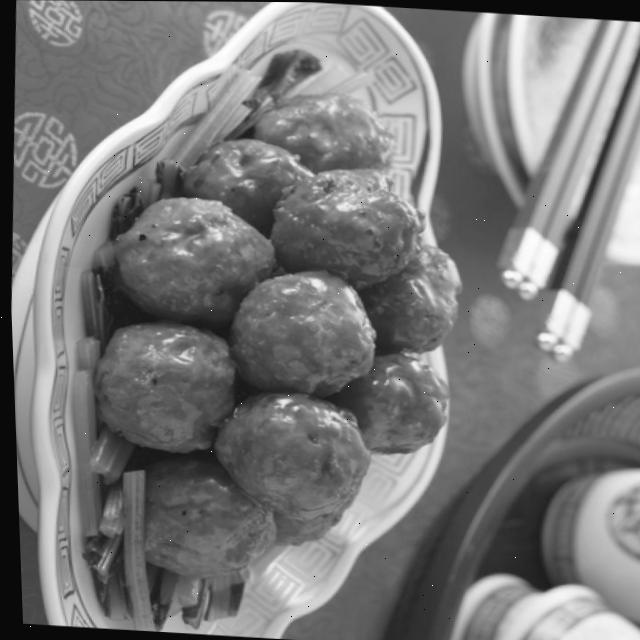猪肉菜式: (0, 8, 491, 640)
